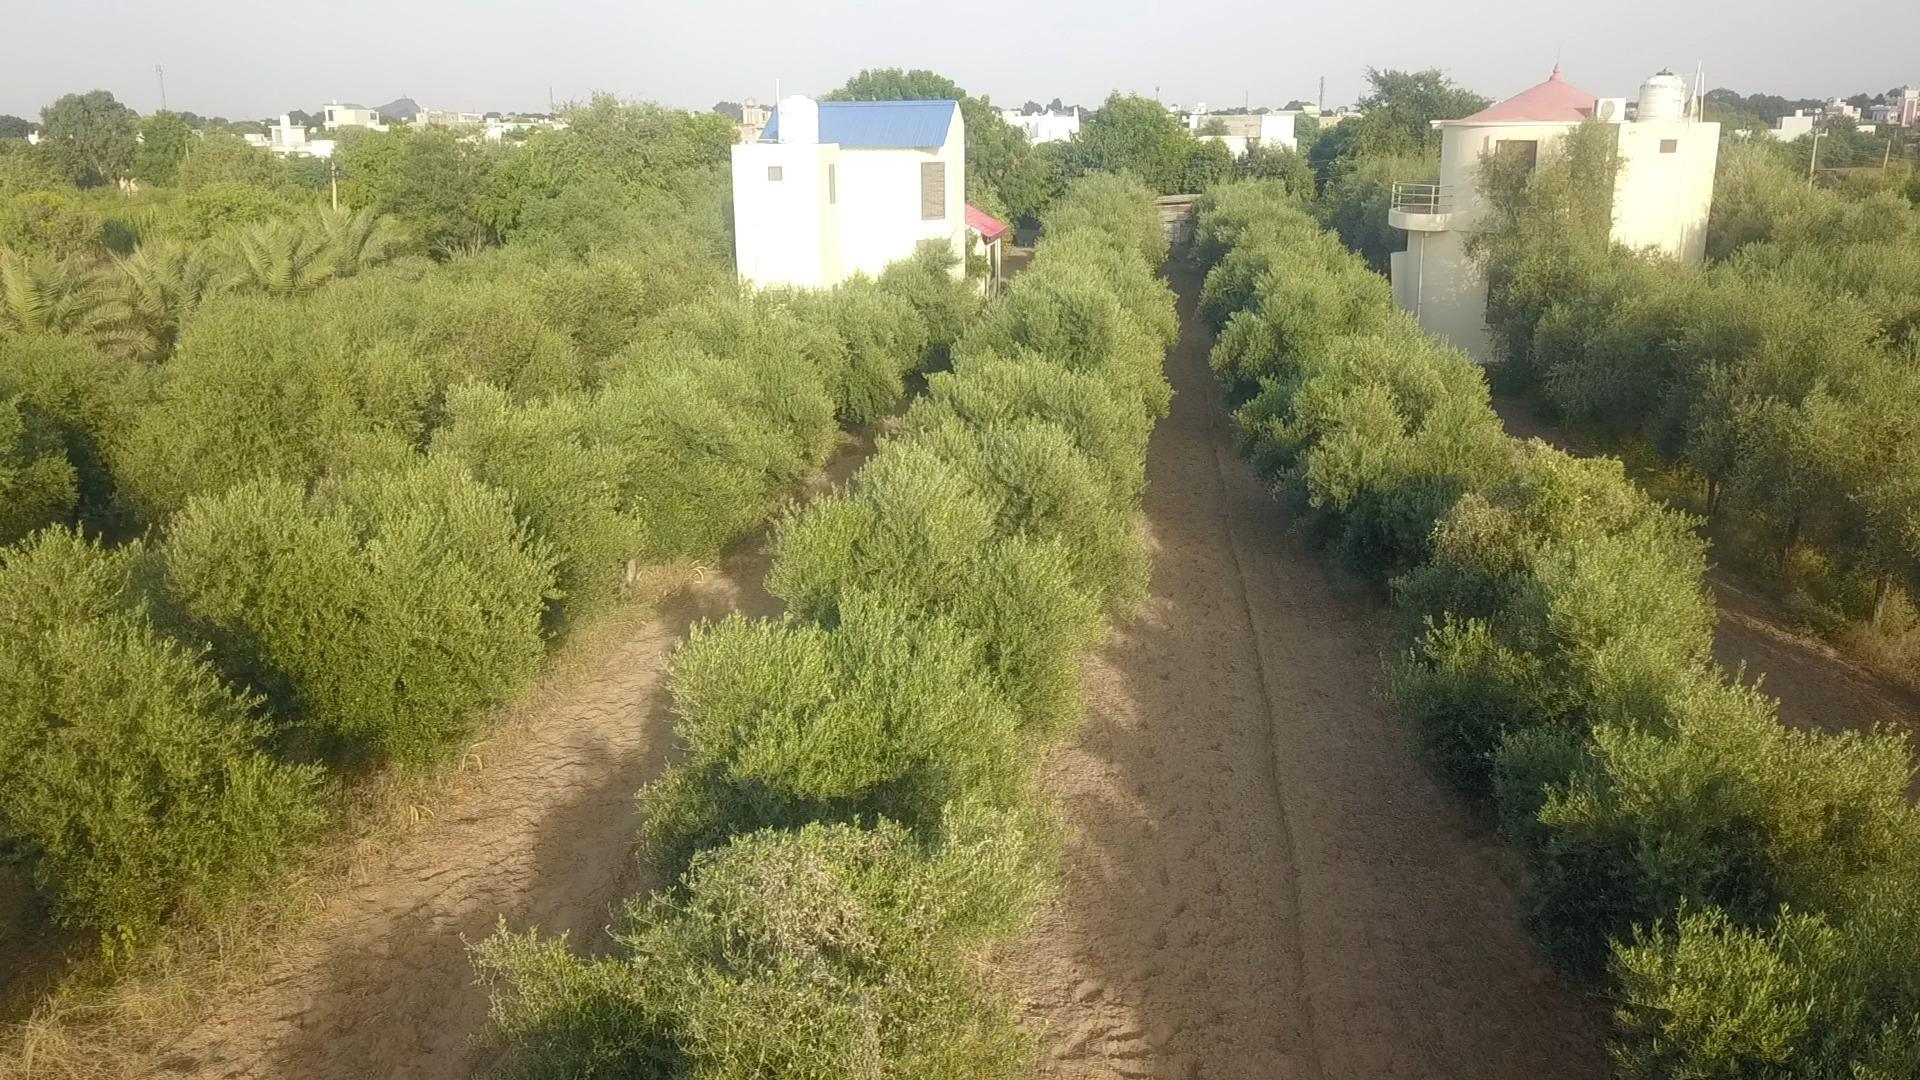canopy: (1193, 179, 1919, 1079), (0, 251, 960, 911), (476, 174, 1176, 1079), (1473, 125, 1919, 564)
road: (998, 276, 1607, 1079), (125, 551, 775, 1079), (1716, 585, 1919, 727)
